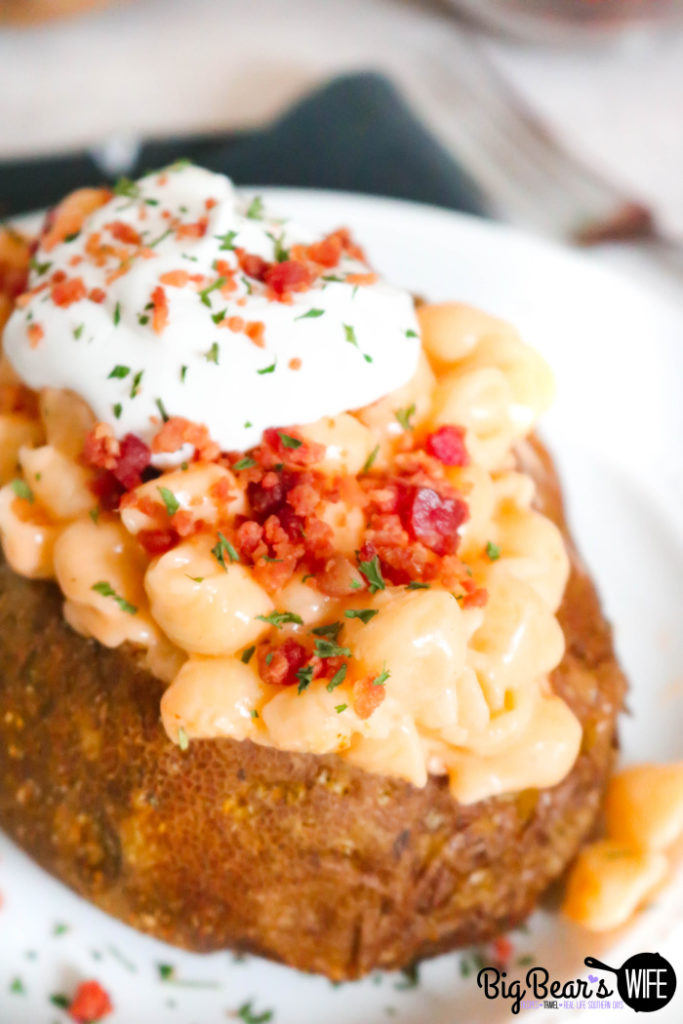cheese: (196, 572, 532, 740)
